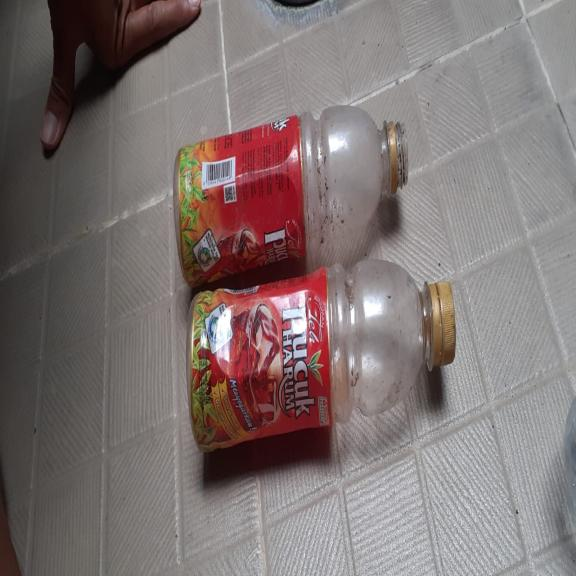Plastik: (185, 259, 457, 452), (173, 106, 408, 292)
